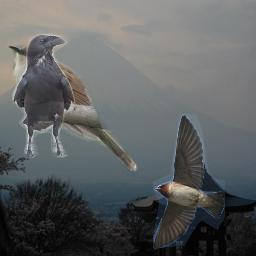Crow: (12, 34, 76, 158)
Cuckoo: (7, 45, 138, 172)
Swallow: (153, 114, 225, 250)
